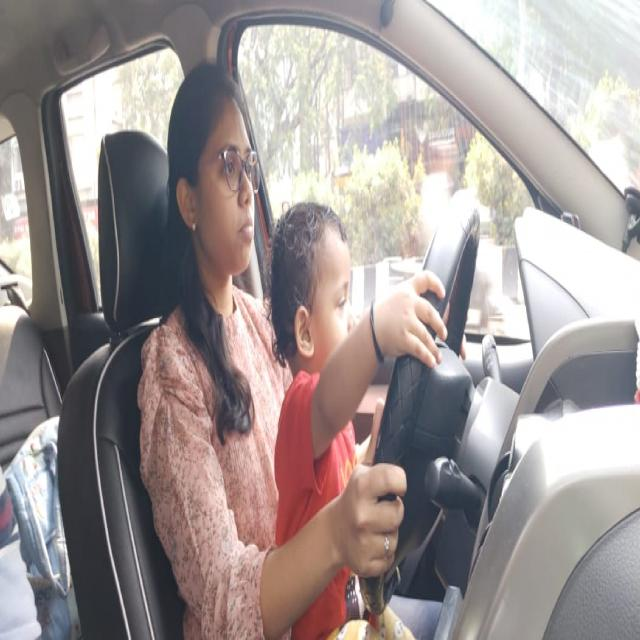child: (289, 190, 366, 436)
person: (161, 49, 269, 292)
